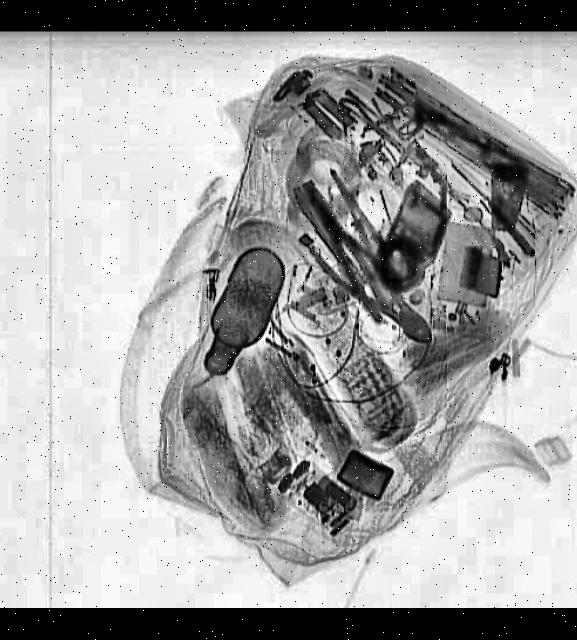Pliers: (301, 219, 444, 360), (286, 172, 400, 323)
